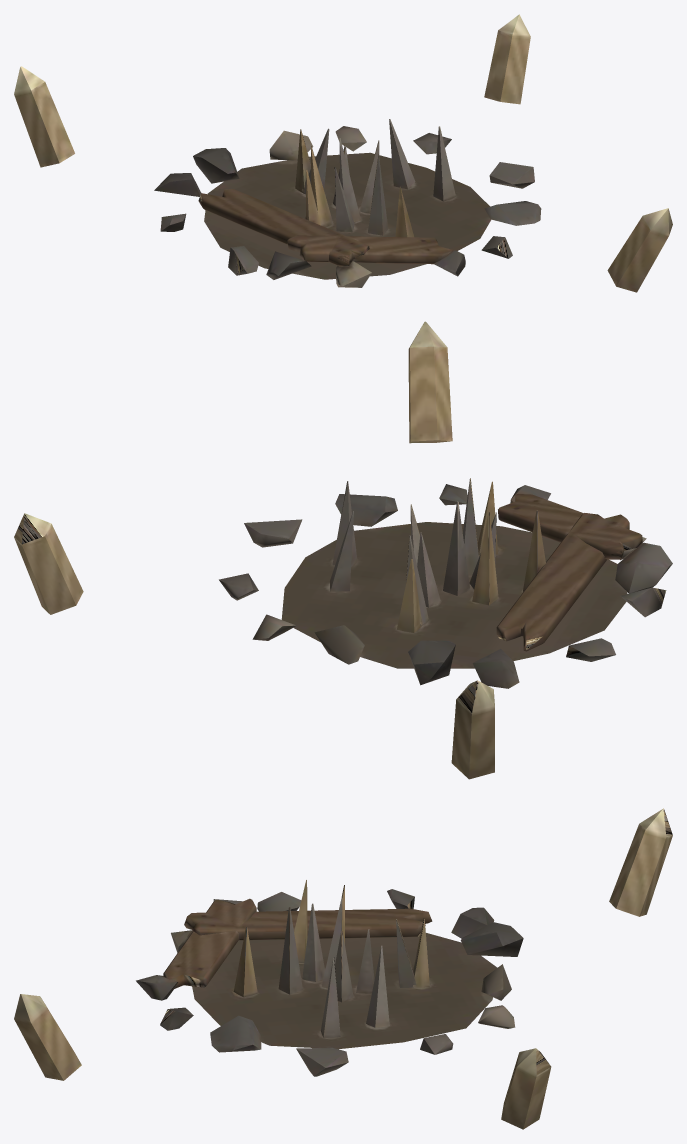
File: trap-cave.low.glb
3 views of the same model, one above another, from view 1: azimuth 30°, elevation 25°; view 2: azimuth 150°, elevation 25°; view 3: azimuth 270°, elevation 25° (orthographic). The views are drawn at different scales.
Parts seen in each view (by area): view 1: trap-cave; view 2: trap-cave; view 3: trap-cave.
Part boxes in pixels (left/top/right/bottom): trap-cave: left=14, top=14, right=672, bottom=292; trap-cave: left=14, top=321, right=672, bottom=779; trap-cave: left=14, top=808, right=672, bottom=1129.
Size of the model in its own units: 1.24 by 0.2416 by 1.45.
Materials: 1 (1 with a texture image).
